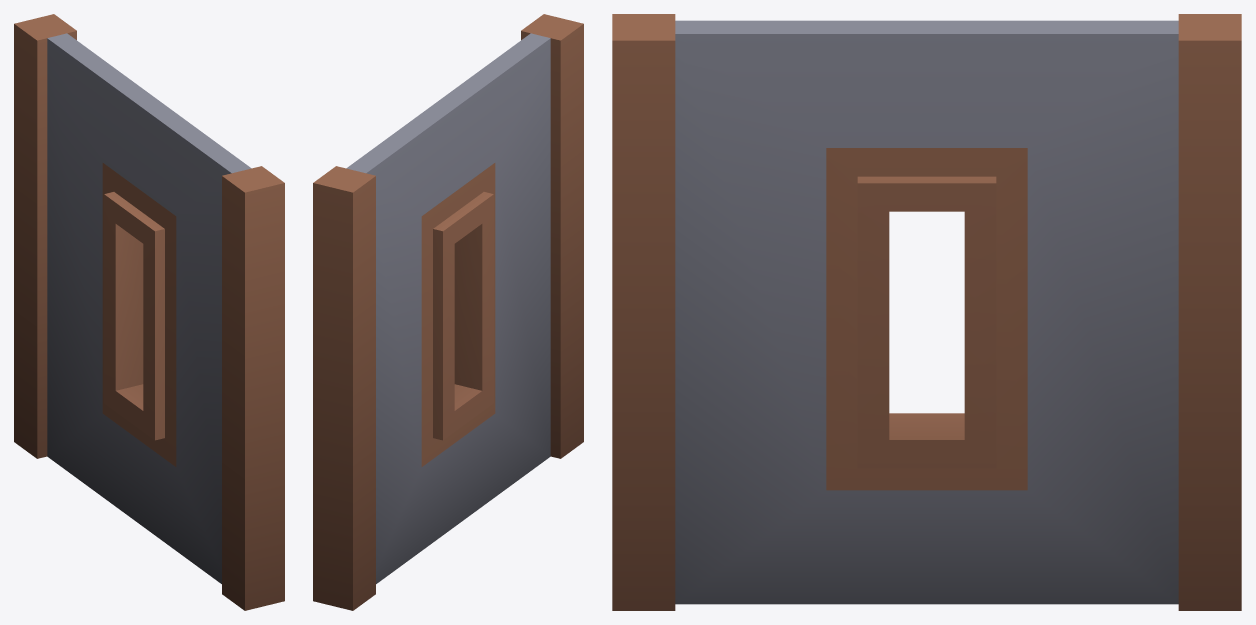
File: wall-window-small.glb
3 views of the same model, side by side, from view 1: azimuth 30°, elevation 25°; view 2: azimuth 150°, elevation 25°; view 3: azimuth 270°, elevation 25° (orthographic). The views are drawn at different scales.
Visible parts, largest first — view 1: wall-window-small; view 2: wall-window-small; view 3: wall-window-small.
Part boxes in pixels (<box>): wall-window-small: <box>14,14,284,610</box>; wall-window-small: <box>313,14,583,610</box>; wall-window-small: <box>612,14,1241,610</box>.
Bounding box in the file's own units: 0.2999 × 3 × 3.
